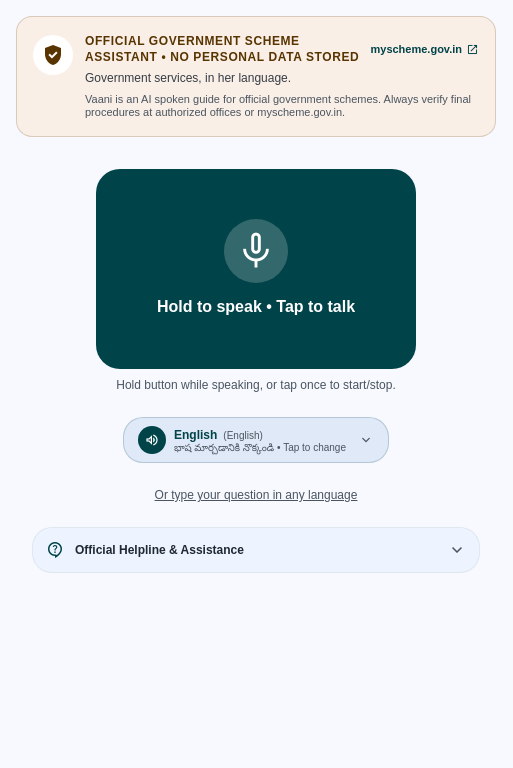
Scenario: Whole-App Language Switching & Zero-Default Regression › REGRESSION: switches to Bengali when Bengali speech is detected with no previous language
This screenshot has width=513, height=768.
Open typed input form
Click the button "Or type your question in any language". click: click(256, 495)
box: 16,479 -> 496,511
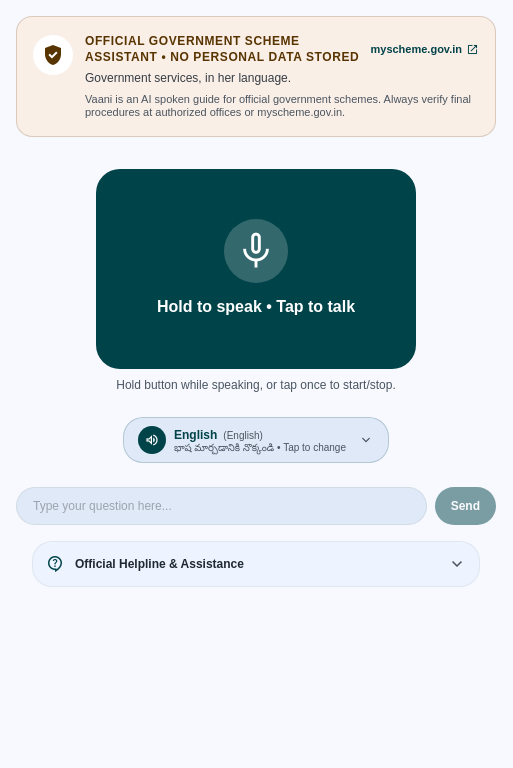
Type "আমি গ্যাস সংযোগ চাই" into the field with placeholder "Type your question here...". click: (221, 506)
box: 16,487 -> 427,525
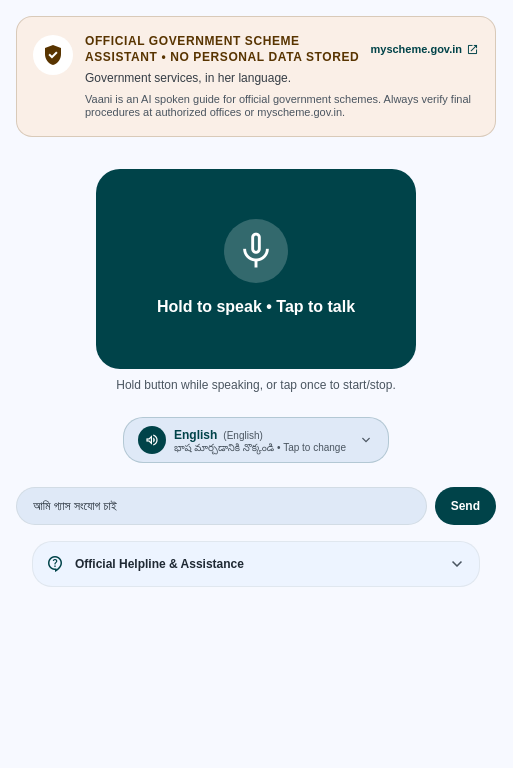
Click the button "Send". click: click(465, 506)
box: 435,487 -> 496,525
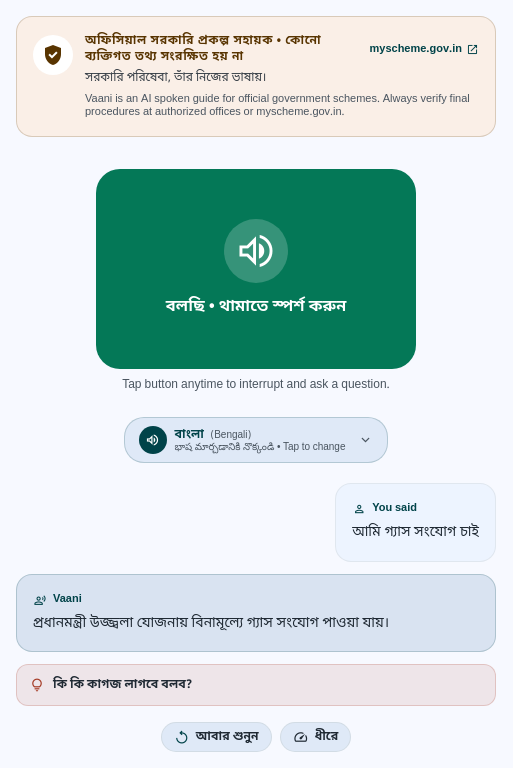
Expected: the text "বাংলা" is shown, 174,427 -> 204,443
